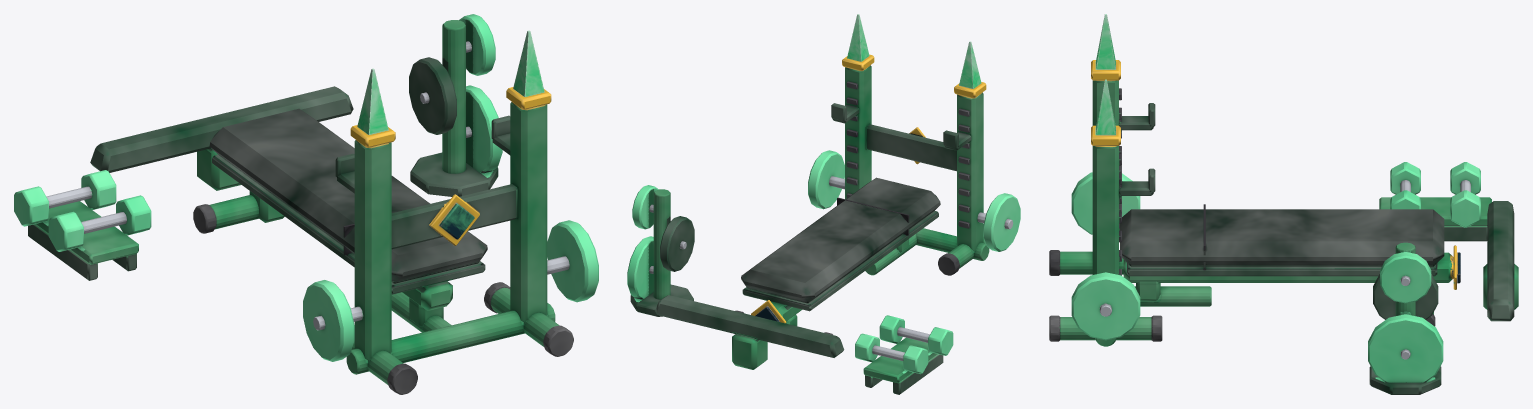
The model's file is Bench_Jade_Rig.fbx.
The picture shows the model from 3 angles, left to right: view 1: azimuth 30°, elevation 25°; view 2: azimuth 150°, elevation 25°; view 3: azimuth 270°, elevation 25°; orthographic projection. The views are drawn at different scales.
Visible parts, largest first — view 1: Rack, Weights, Bench, Decor; view 2: Rack, Weights, Bench, Decor; view 3: Bench, Weights, Rack, Decor.
Boxes of the visible parts, x1,y1,x2,y2 form: Rack: (303,87,598,394); Weights: (14,14,502,280); Bench: (193,108,487,310); Decor: (357,30,544,134); Rack: (808,54,1020,275); Weights: (627,185,953,394); Bench: (735,177,940,334); Decor: (847,14,981,88); Bench: (1120,204,1460,326); Weights: (1368,162,1518,394); Rack: (1049,60,1211,346); Decor: (1096,14,1115,135).
Bounding box in the file's own units: 9.02 × 6 × 9.8.
Materials: 1 (1 with a texture image).
